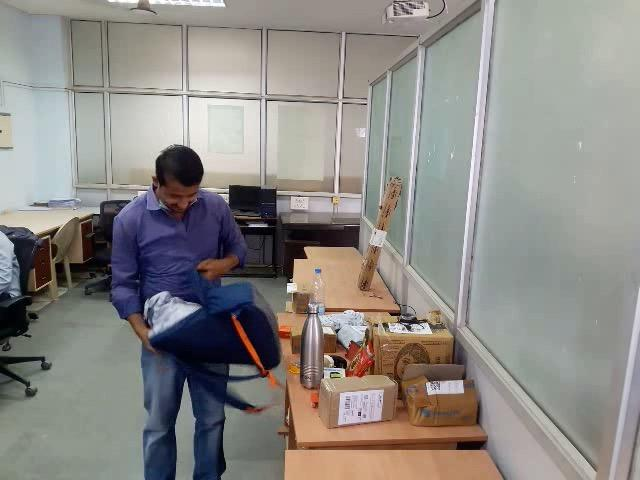shoplifting: (112, 243, 295, 424)
